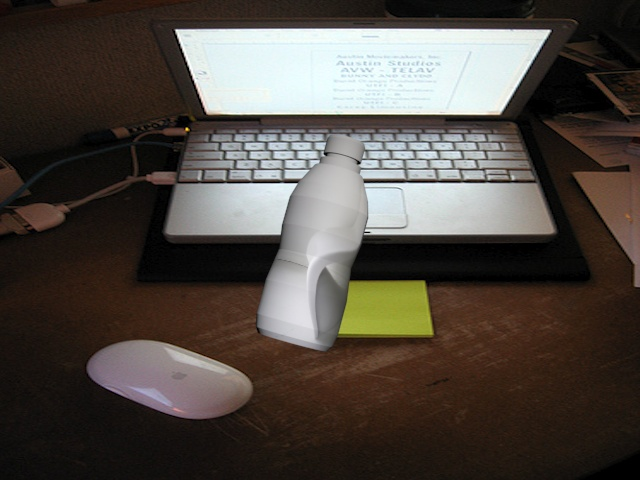bottle: (249, 129, 376, 352)
